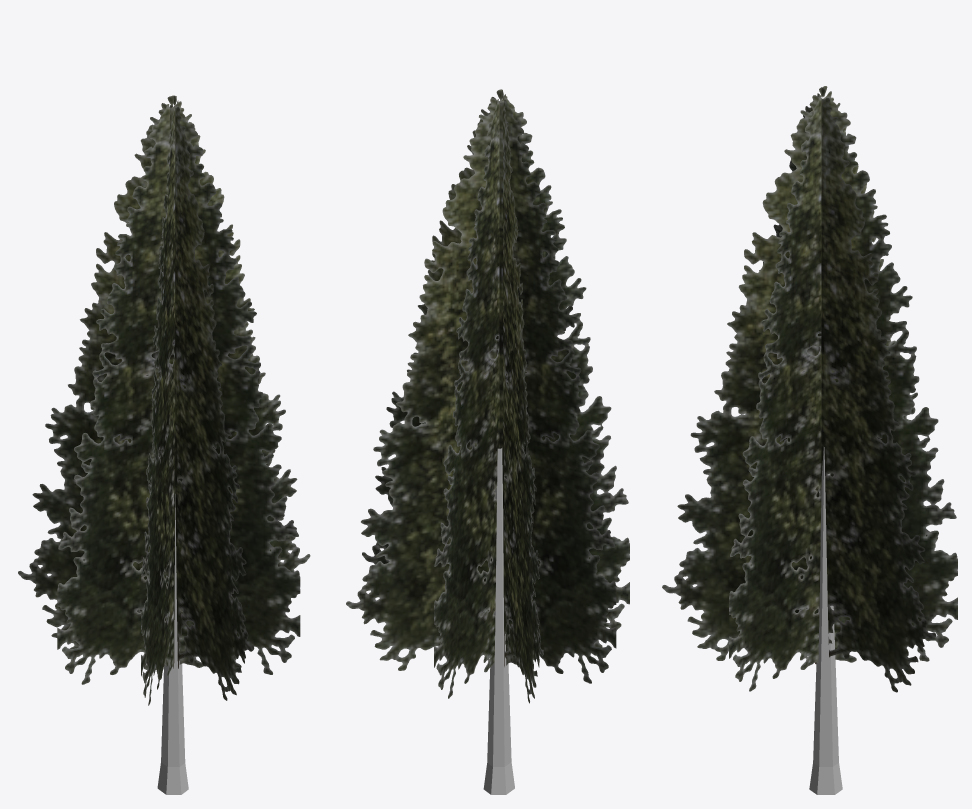
Rendered from Arbol02-c.fbx.
3 views of the same model, side by side, from view 1: azimuth 30°, elevation 25°; view 2: azimuth 150°, elevation 25°; view 3: azimuth 270°, elevation 25° (orthographic).
Parts seen in each view (by area): view 1: arbol02 C; view 2: arbol02 C; view 3: arbol02 C.
Part boxes in pixels (bbox=[...]): arbol02 C: bbox=[18, 95, 310, 794]; arbol02 C: bbox=[346, 89, 629, 794]; arbol02 C: bbox=[662, 86, 957, 794].
Size of the model in its own units: 389 by 1028 by 389.
